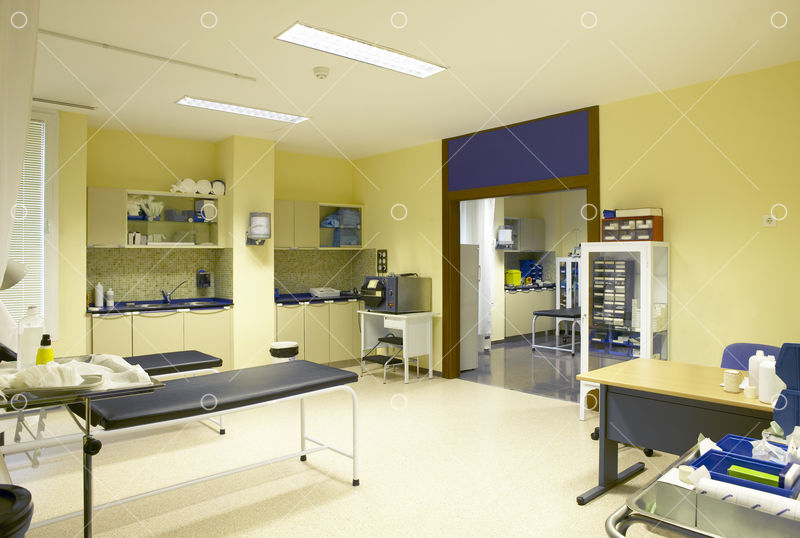cabinet: (578, 241, 671, 421), (86, 188, 227, 250), (280, 193, 394, 253), (500, 217, 549, 252)
chair: (720, 342, 781, 372)
counter: (86, 306, 236, 364), (276, 295, 380, 356), (506, 283, 561, 342)
dispenser: (245, 212, 272, 246), (34, 331, 56, 372), (196, 269, 210, 288)
exam_table: (44, 359, 377, 532), (118, 348, 228, 436), (530, 308, 581, 356)
faucet: (160, 280, 189, 304)
sink: (133, 301, 220, 306)
table: (576, 356, 786, 506), (357, 312, 440, 384)
waste_bin: (268, 341, 300, 363)
